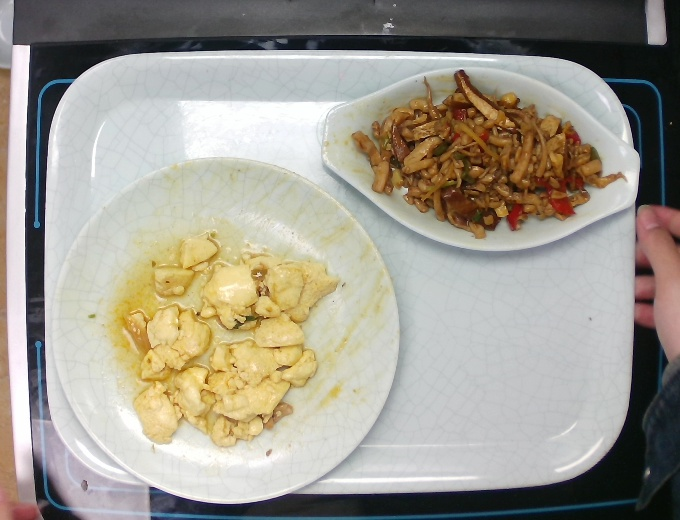JYsf-Da_Yuan_Pan: (51, 153, 399, 509)
JYsf-Yu_Pan: (322, 66, 644, 254)
